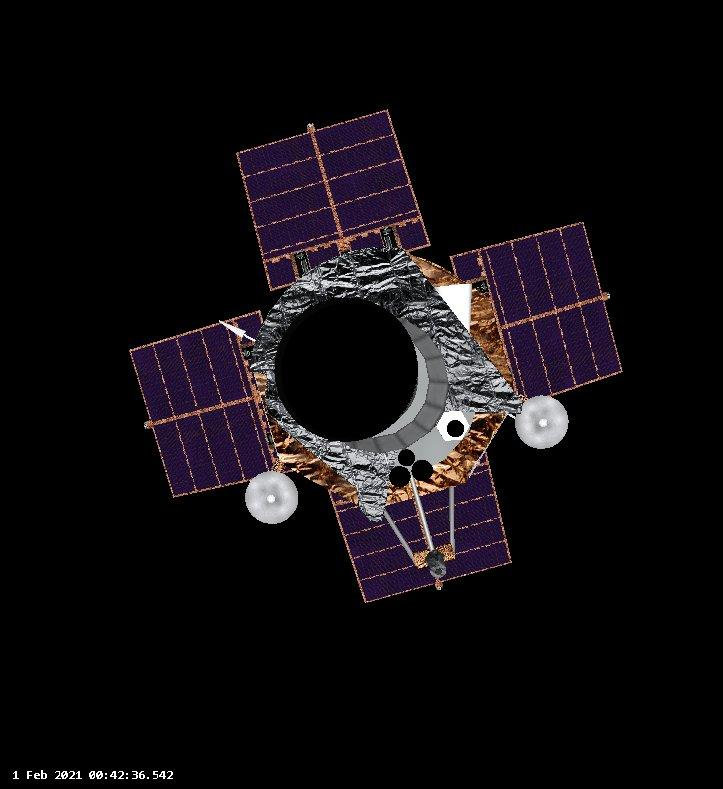antenna: (380, 474, 457, 580), (514, 393, 570, 450), (244, 470, 299, 525), (215, 316, 259, 345)
body: (255, 243, 517, 505)
solar: (236, 108, 431, 293), (449, 219, 624, 401), (129, 309, 287, 500), (327, 449, 514, 604)
thruster: (273, 294, 424, 442), (388, 464, 412, 488), (410, 459, 434, 482), (397, 447, 416, 467), (447, 418, 465, 438)
